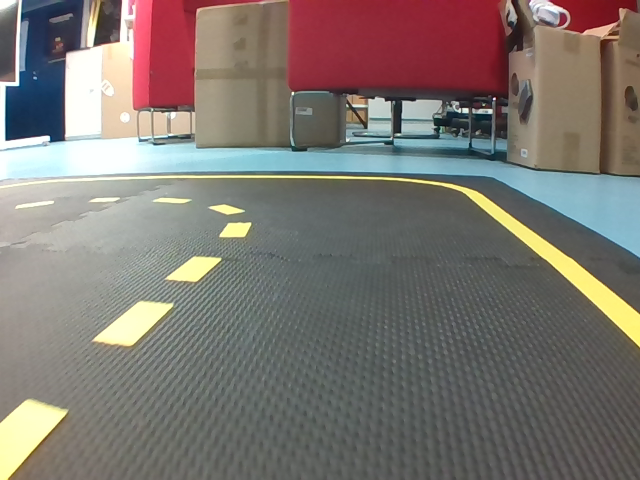no30: (519, 79, 567, 139)
stop: (160, 95, 178, 132)
